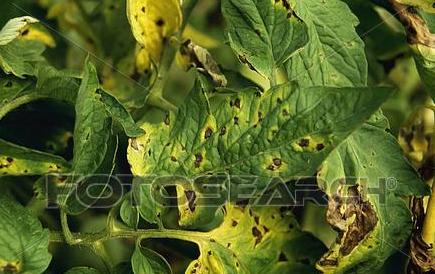Tomato Early blight leaf: (119, 82, 387, 187), (322, 146, 417, 274), (192, 192, 320, 274), (0, 188, 56, 274), (89, 0, 178, 49)
